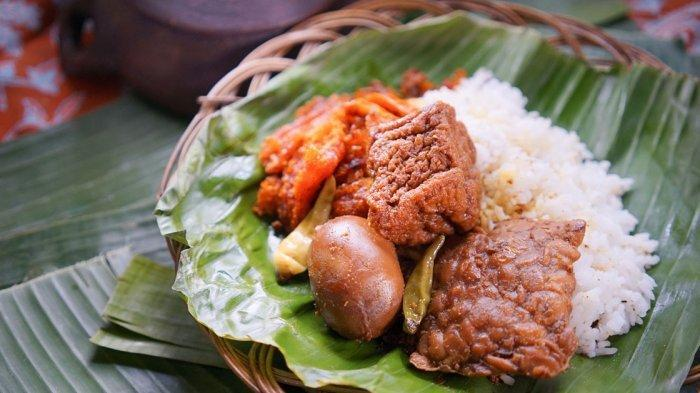gudeg: (256, 70, 660, 377)
